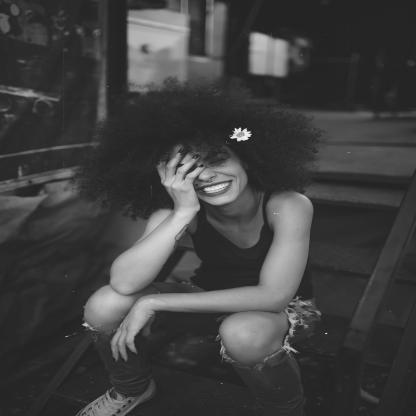Eye: (208, 158, 228, 166), (186, 168, 195, 174)
Mouth: (196, 180, 233, 197)
Nose: (196, 162, 216, 182)
